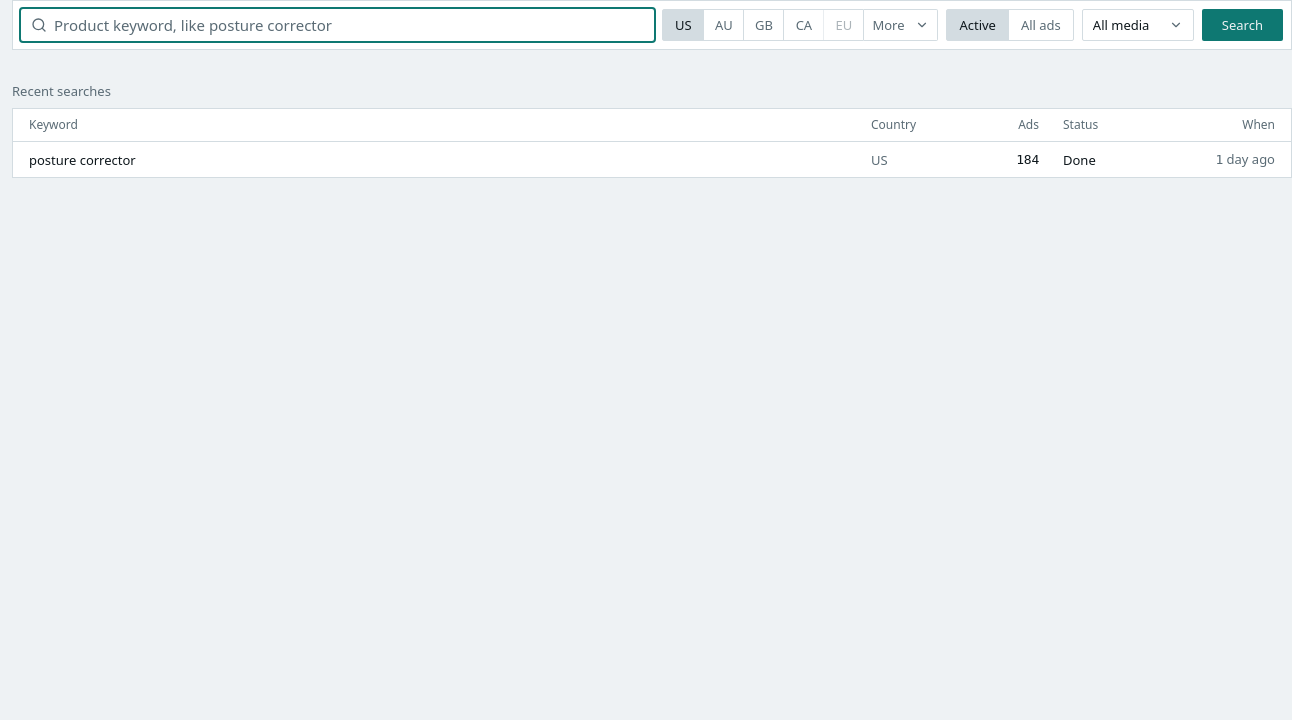
Test: HomePage › busy shows toast
In the field labelled "Product keyword": [338, 25] box [21, 9, 654, 41], type "posture corrector"
Then press Enter
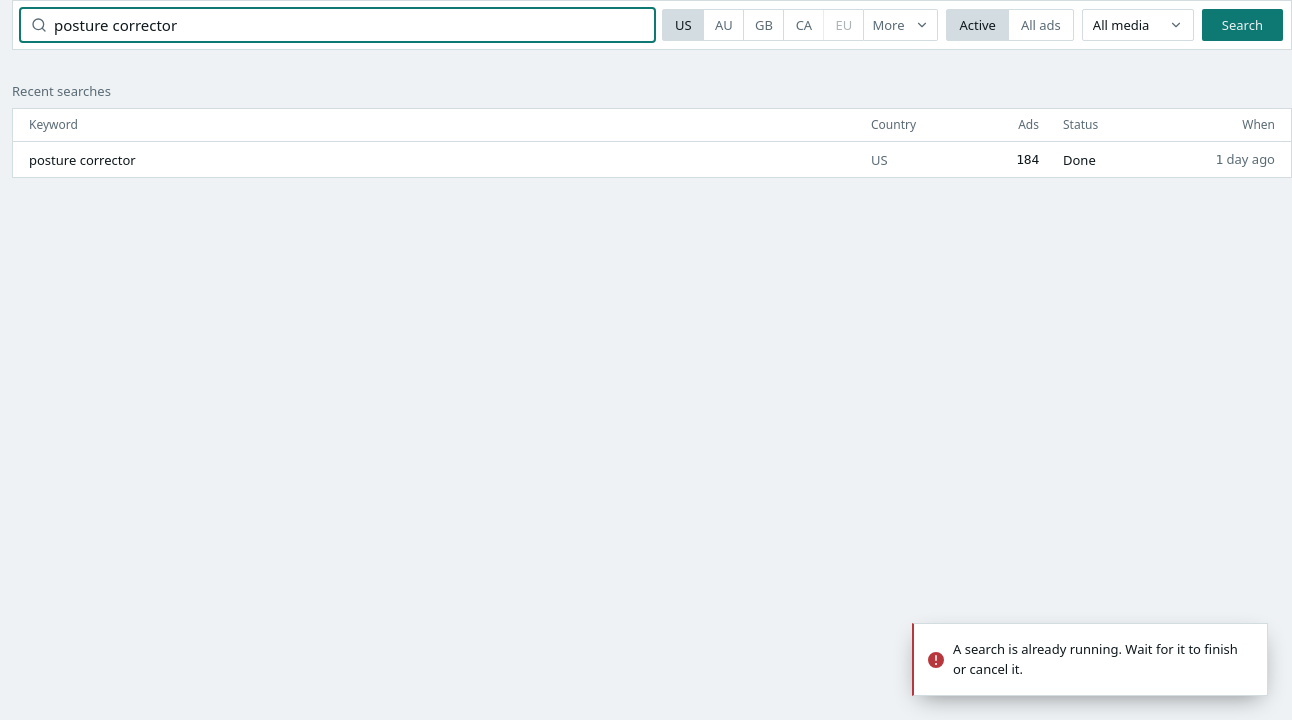
Now the text "A search is already running. Wait for it to finish or cancel it." is shown, box [953, 640, 1251, 679]
